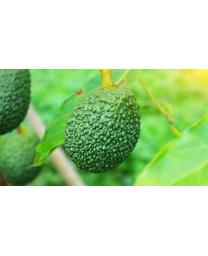avocado: (65, 86, 142, 175)
